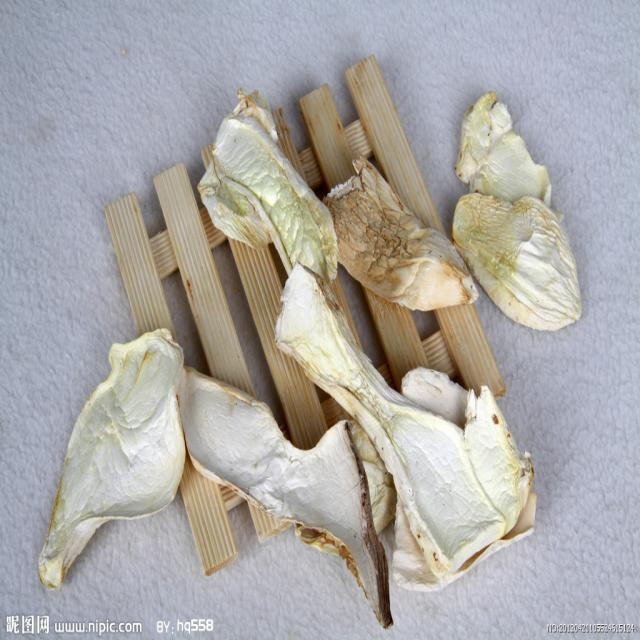Pleurotus eryngii: (38, 94, 583, 629)
